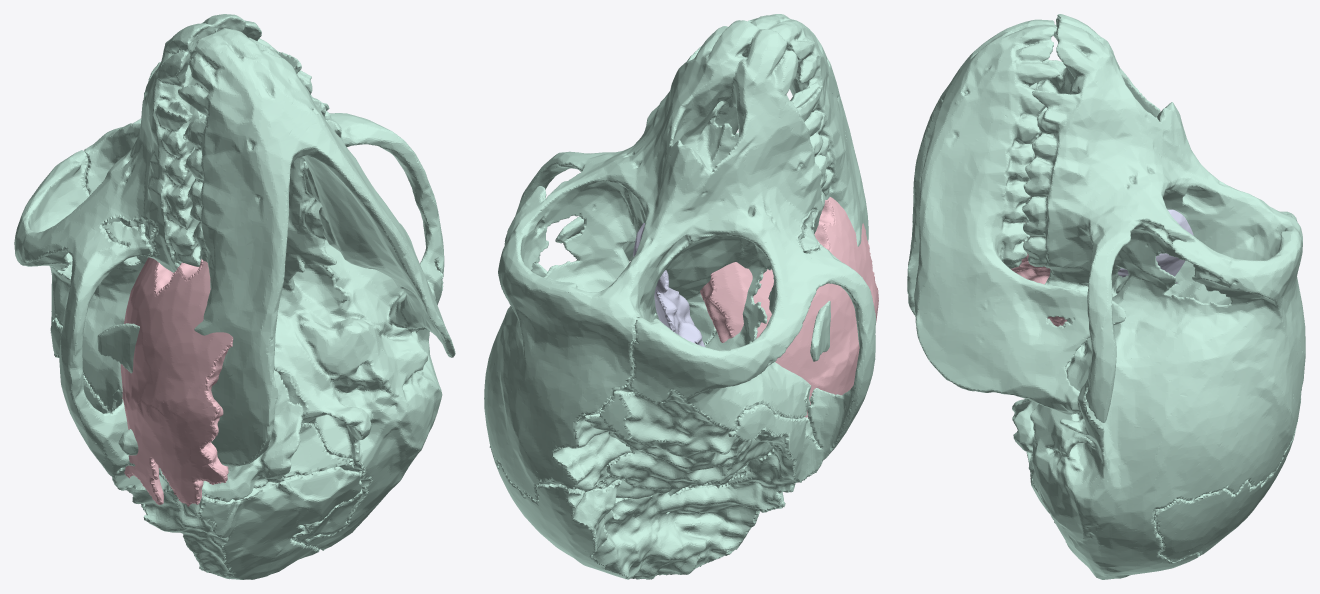
Rendered from 102021_colored.glb.
The picture shows the model from 3 angles, left to right: view 1: azimuth 30°, elevation 25°; view 2: azimuth 150°, elevation 25°; view 3: azimuth 270°, elevation 25°; orthographic projection. The views are drawn at different scales.
Parts seen in each view (by area): view 1: world; view 2: world; view 3: world.
Boxes of the visible parts, bbox=[...] form: world: bbox=[14, 14, 455, 579]; world: bbox=[484, 14, 878, 579]; world: bbox=[907, 14, 1305, 579].
Size of the model in its own units: 1.24 by 1.79 by 1.26.
